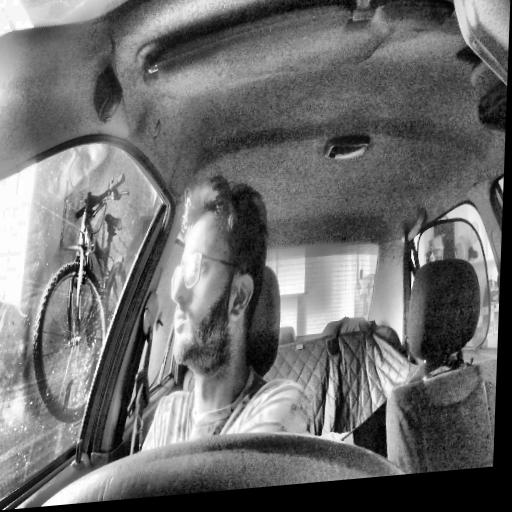awake: (165, 170, 270, 380)
